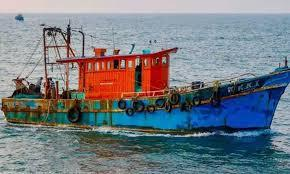fishing boat: (2, 15, 290, 136)
